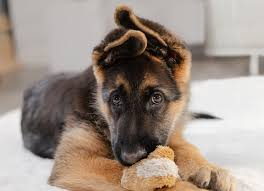dog: (7, 10, 250, 191)
